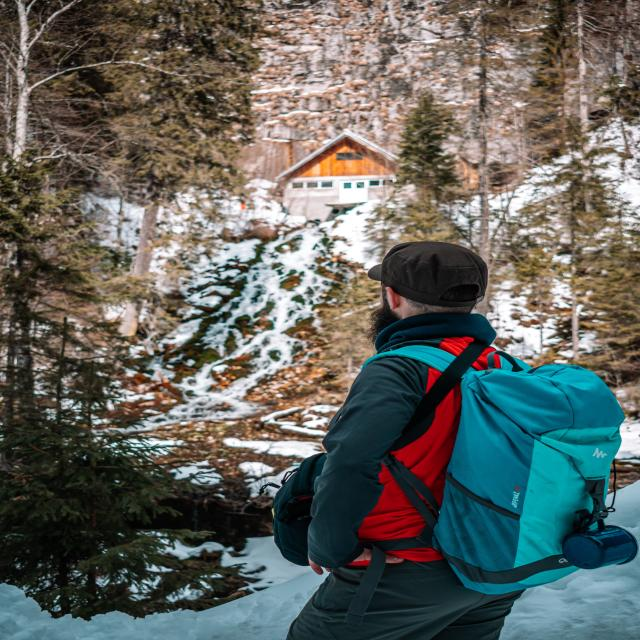backpack: (354, 338, 626, 599)
